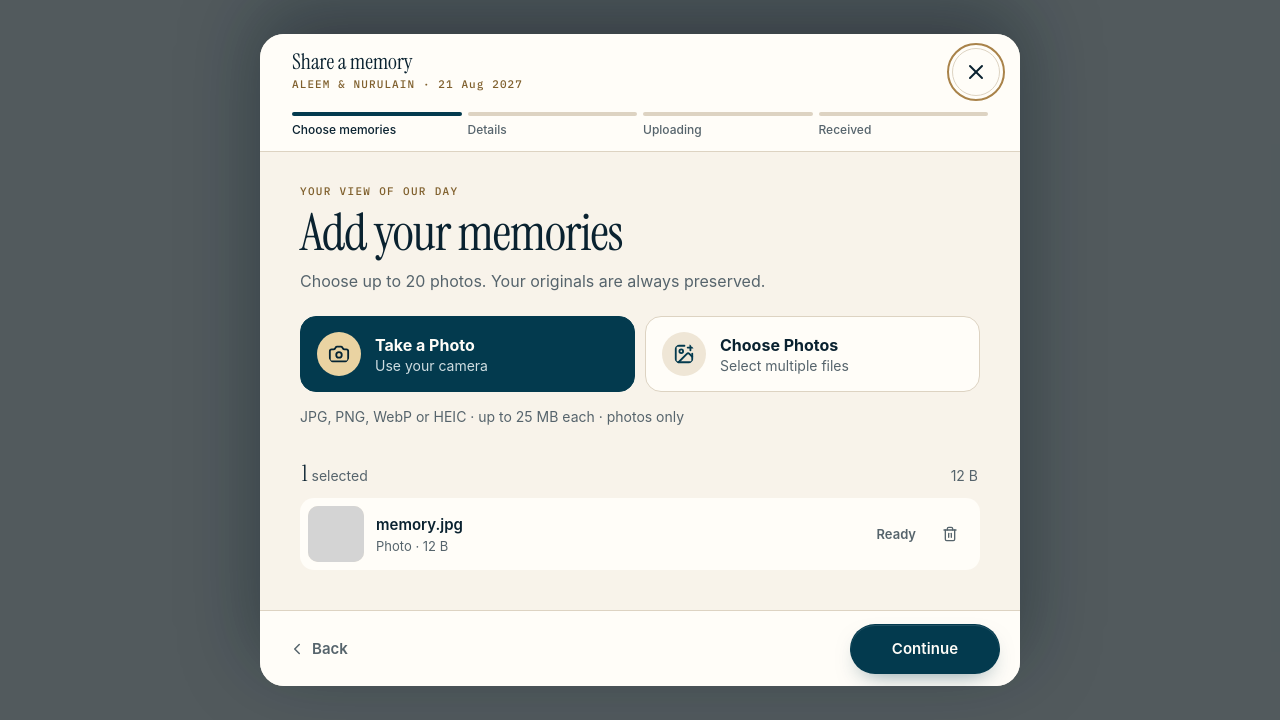
day-aware upload preparation › automatically selects the sole visible date without exposing a second date or selector
Click the button "Continue" at (925, 649), box left=850, top=624, right=1000, bottom=674
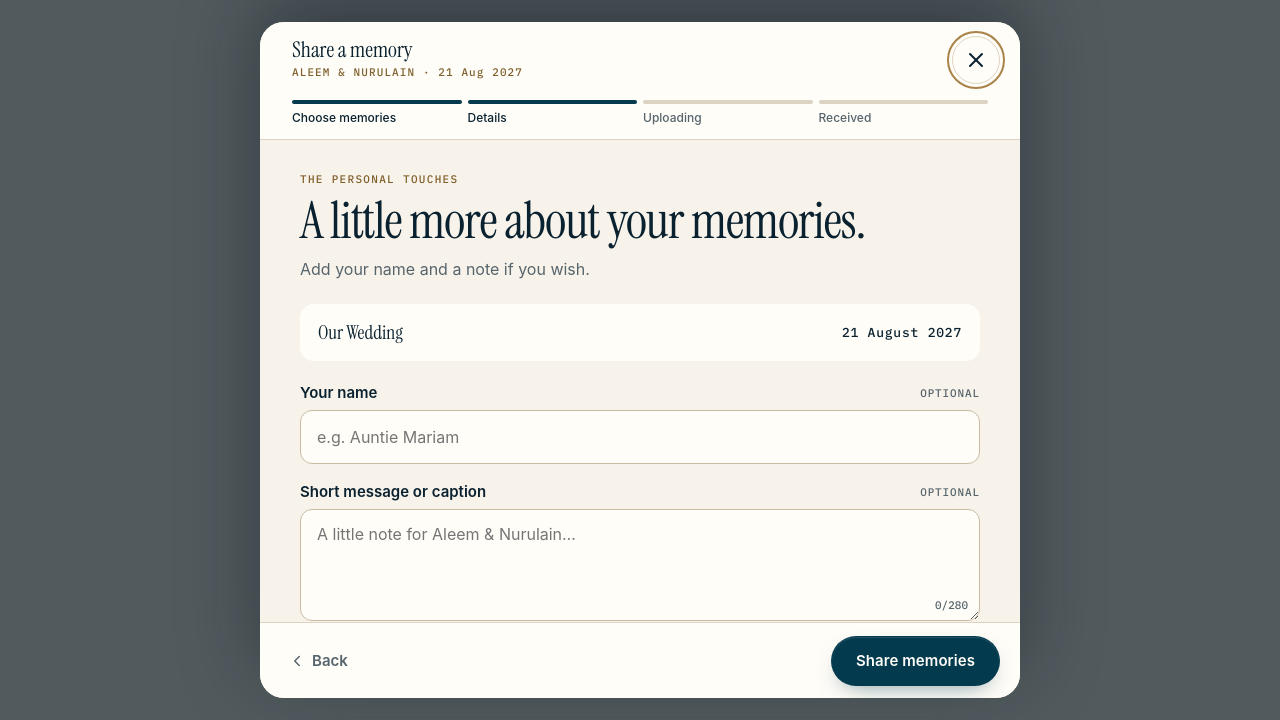
Expected: the dialog does not show "22", left=260, top=22, right=1020, bottom=698
Now the heading "A little more about your memories." is shown, box left=300, top=195, right=920, bottom=247
Click the button "Share memories" at (916, 661), box left=831, top=636, right=1000, bottom=686
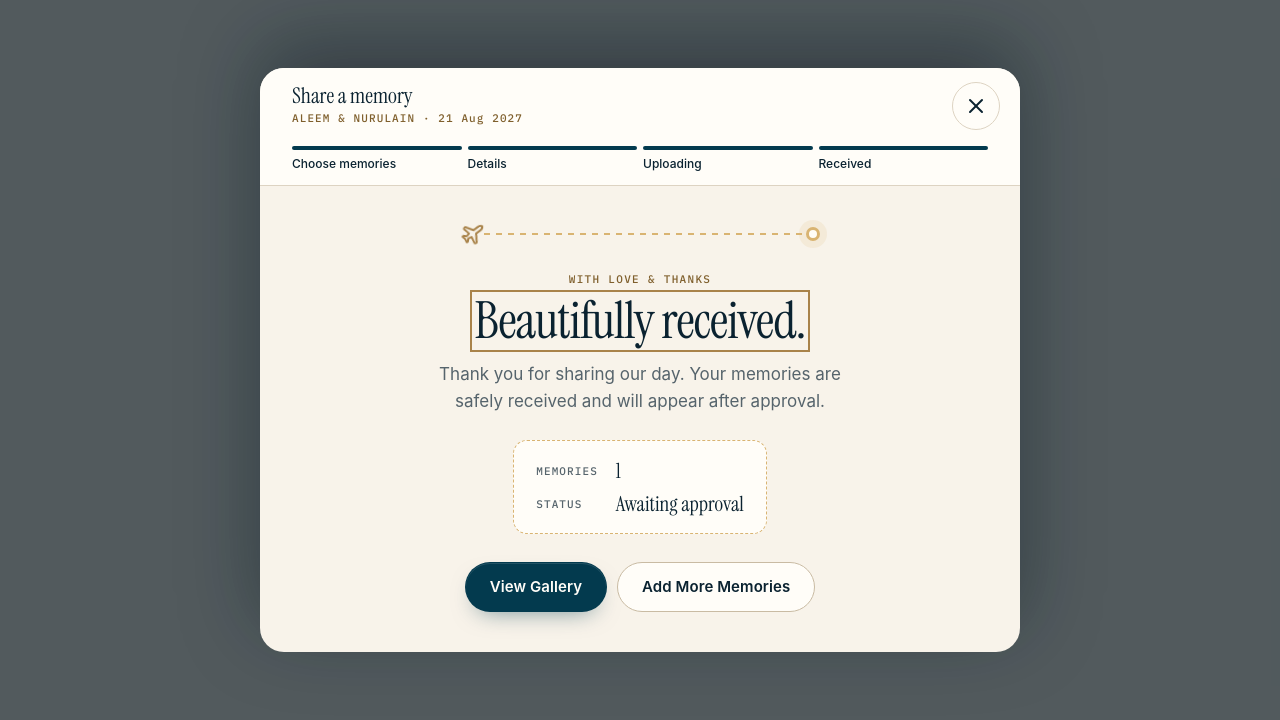
Now the heading "Beautifully received." is shown, box left=475, top=295, right=805, bottom=347
